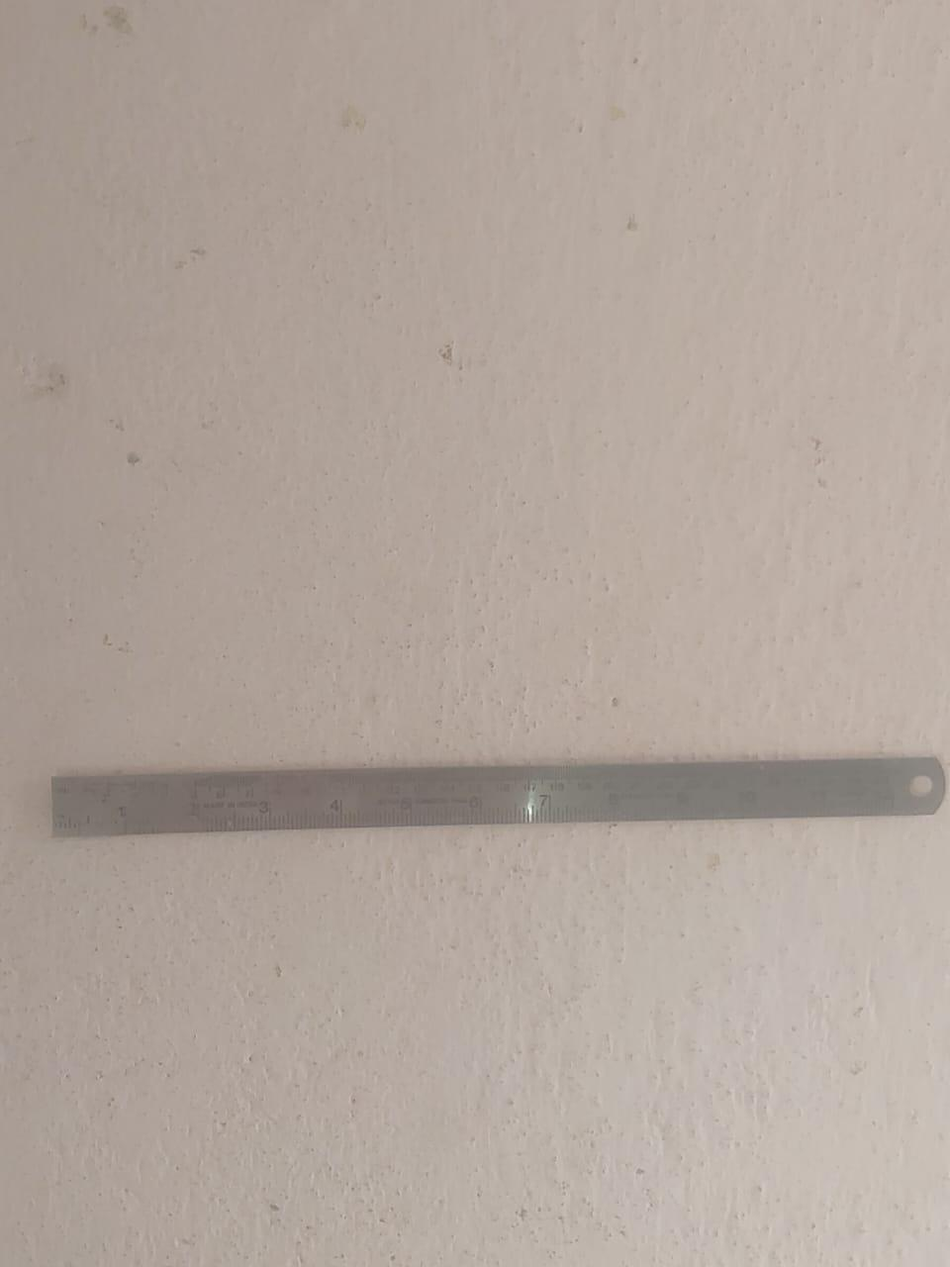scale: (54, 756, 942, 842)
